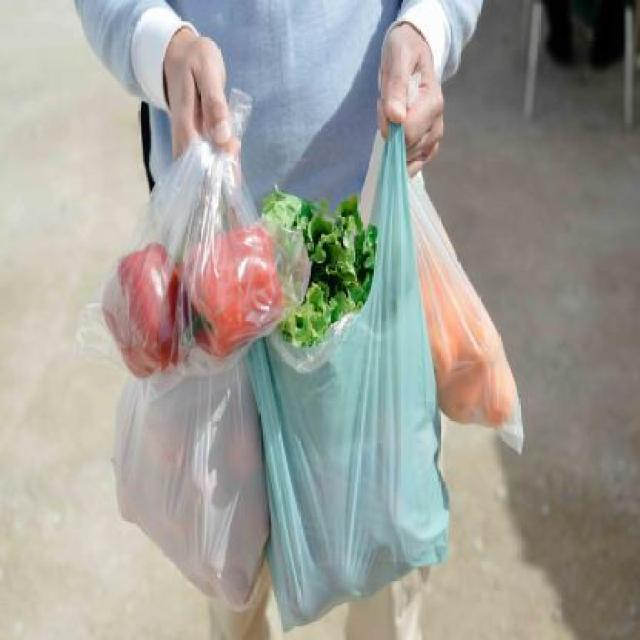plastic bag: (247, 187, 452, 640), (103, 377, 284, 635), (408, 143, 532, 471), (98, 143, 274, 374)
